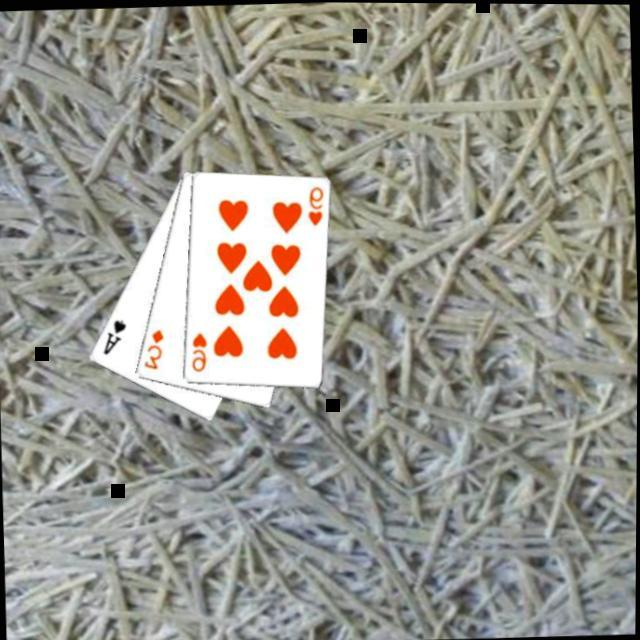3D: (139, 327, 167, 374)
9H: (186, 330, 210, 376), (302, 184, 326, 230)
AS: (98, 318, 129, 359)
